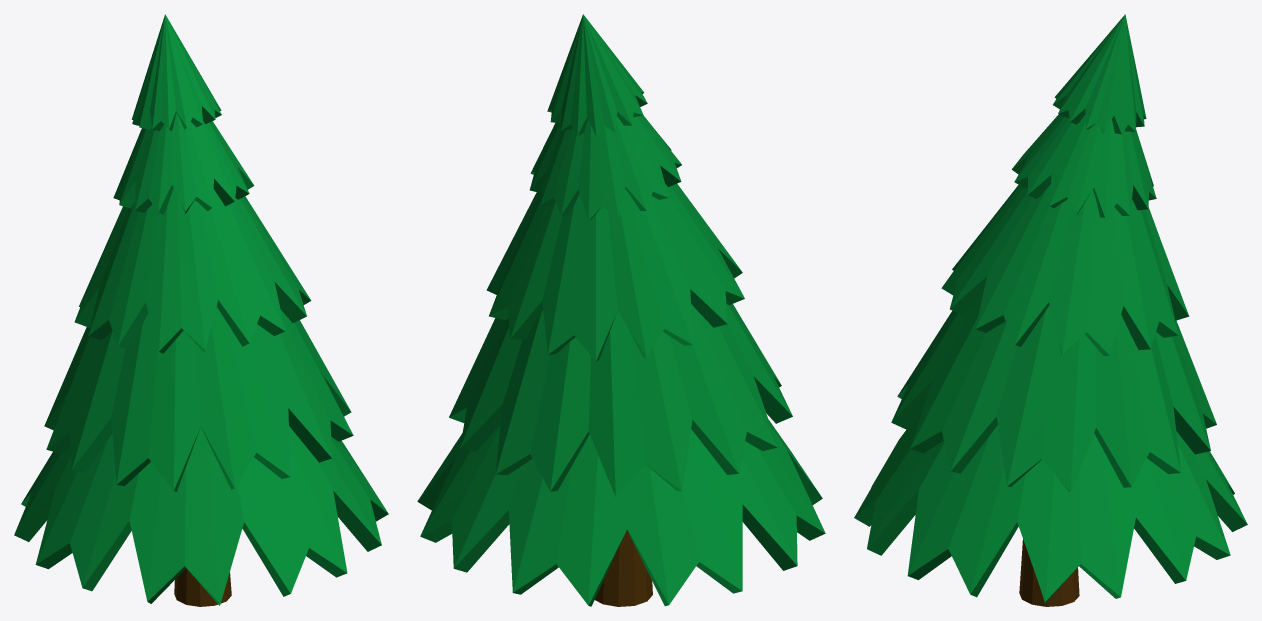
Rendered from sapin.fbx.
3 renders of one model, left to right at view 1: azimuth 30°, elevation 25°; view 2: azimuth 150°, elevation 25°; view 3: azimuth 270°, elevation 25°, orthographic. The views are drawn at different scales.
Visible parts, largest first — view 1: Cylinder_verde_0.015, Cylinder_tronco_0.015; view 2: Cylinder_verde_0.015, Cylinder_tronco_0.015; view 3: Cylinder_verde_0.015, Cylinder_tronco_0.015.
Part boxes in pixels (box(x1,y1,x2,y2)): Cylinder_verde_0.015: box(14, 14, 388, 605); Cylinder_tronco_0.015: box(174, 568, 231, 606); Cylinder_verde_0.015: box(417, 14, 825, 606); Cylinder_tronco_0.015: box(595, 530, 652, 606); Cylinder_verde_0.015: box(854, 14, 1247, 603); Cylinder_tronco_0.015: box(1019, 539, 1079, 606).
Size of the model in its own units: 403 by 655 by 403.
